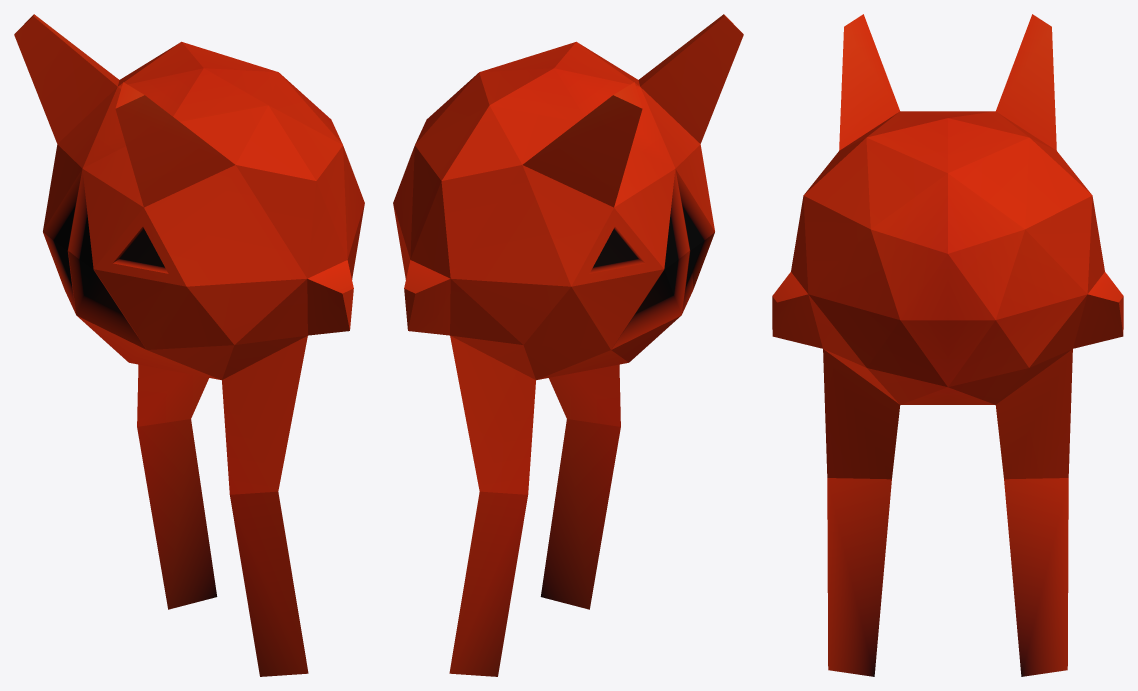
File: Enemy1.fbx
The picture shows the model from 3 angles, left to right: view 1: azimuth 30°, elevation 25°; view 2: azimuth 150°, elevation 25°; view 3: azimuth 270°, elevation 25°; orthographic projection. The views are drawn at different scales.
Parts seen in each view (by area): view 1: Icosphere; view 2: Icosphere; view 3: Icosphere.
Boxes of the visible parts, <box> form: Icosphere: <box>14,14,364,676</box>; Icosphere: <box>393,14,743,676</box>; Icosphere: <box>772,14,1123,676</box>.
Size of the model in its own units: 193 by 420 by 228.
